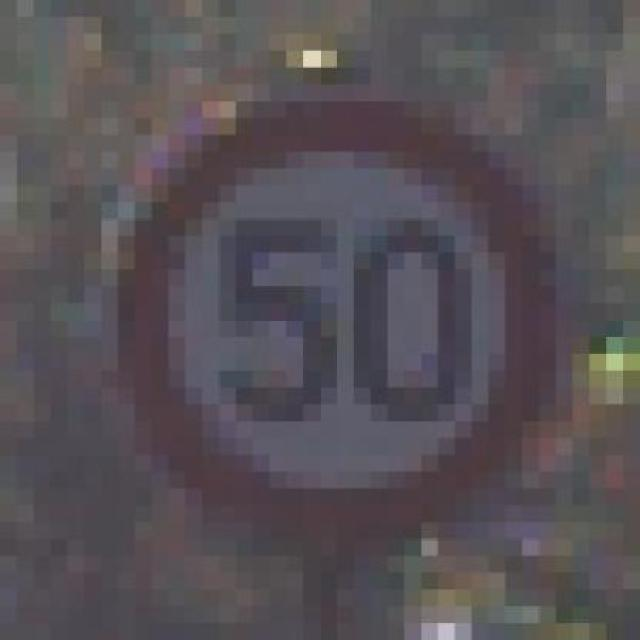50 mph speed limit: (67, 84, 590, 556)
